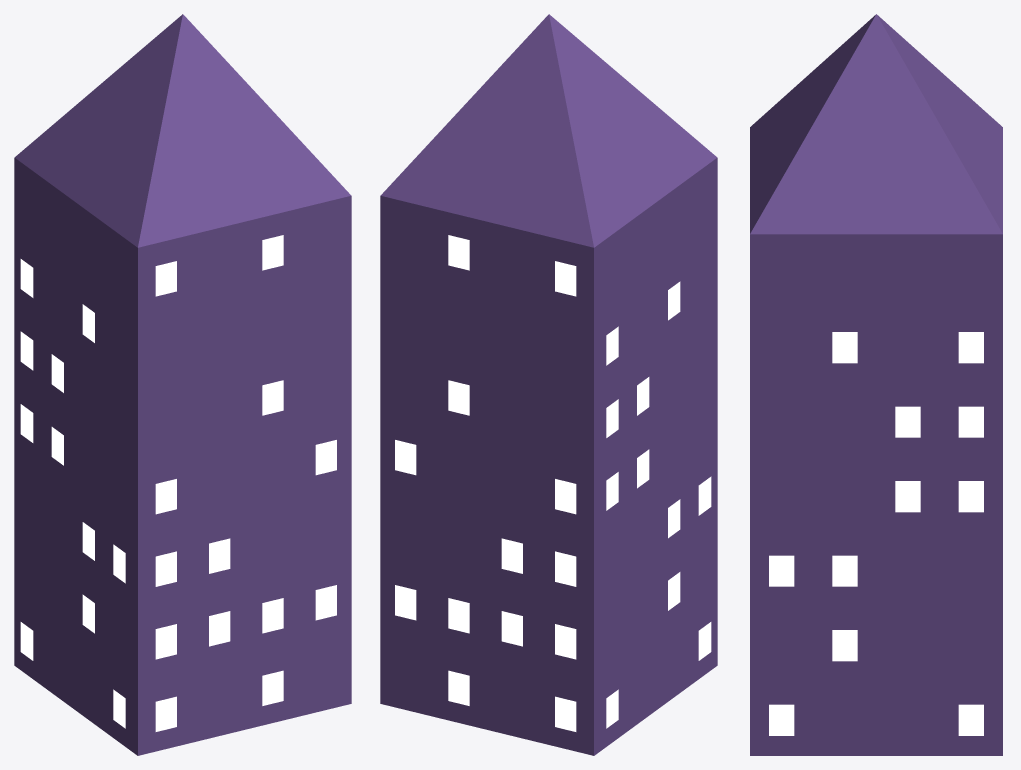
File: skyline-v2-pointed.glb
3 views of the same model, side by side, from view 1: azimuth 30°, elevation 25°; view 2: azimuth 150°, elevation 25°; view 3: azimuth 270°, elevation 25° (orthographic). The views are drawn at different scales.
Parts seen in each view (by area): view 1: skyline-v2-pointed_0, skyline-v2-pointed_4, skyline-v2-pointed_1, skyline-v2-pointed_3, skyline-v2-pointed_2; view 2: skyline-v2-pointed_0, skyline-v2-pointed_4, skyline-v2-pointed_1, skyline-v2-pointed_3, skyline-v2-pointed_2; view 3: skyline-v2-pointed_0, skyline-v2-pointed_4, skyline-v2-pointed_1, skyline-v2-pointed_3, skyline-v2-pointed_2.
Part boxes in pixels (bbox=[...]): skyline-v2-pointed_0: bbox=[14, 157, 351, 755]; skyline-v2-pointed_4: bbox=[15, 14, 350, 247]; skyline-v2-pointed_1: bbox=[20, 259, 336, 646]; skyline-v2-pointed_3: bbox=[82, 380, 283, 728]; skyline-v2-pointed_2: bbox=[20, 235, 283, 731]; skyline-v2-pointed_0: bbox=[380, 157, 717, 755]; skyline-v2-pointed_4: bbox=[381, 14, 716, 247]; skyline-v2-pointed_1: bbox=[395, 261, 680, 646]; skyline-v2-pointed_3: bbox=[448, 380, 711, 660]; skyline-v2-pointed_2: bbox=[448, 235, 618, 731]; skyline-v2-pointed_0: bbox=[750, 234, 1002, 755]; skyline-v2-pointed_4: bbox=[750, 14, 1002, 234]; skyline-v2-pointed_1: bbox=[832, 332, 983, 661]; skyline-v2-pointed_3: bbox=[769, 555, 857, 735]; skyline-v2-pointed_2: bbox=[958, 704, 983, 735].
Size of the model in its own units: 2.26 by 6.6 by 2.26.
